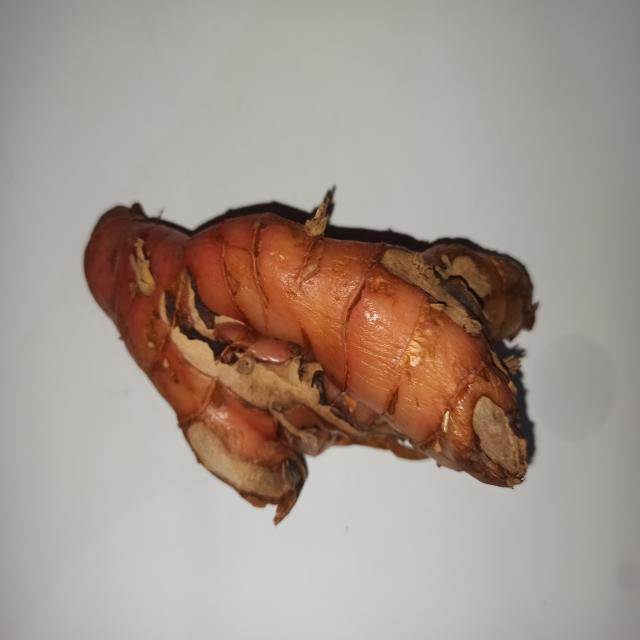ginger: (97, 181, 529, 509)
